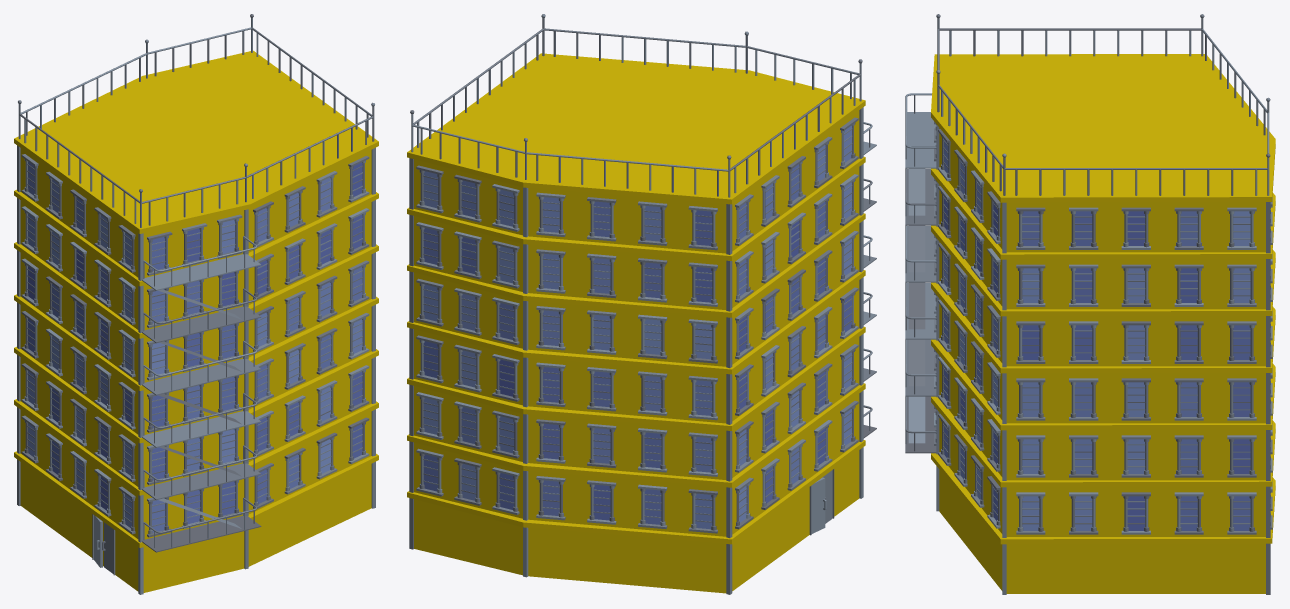
Rendered from Building Procedural.018.fbx.
3 views of the same model, side by side, from view 1: azimuth 30°, elevation 25°; view 2: azimuth 150°, elevation 25°; view 3: azimuth 270°, elevation 25° (orthographic). The views are drawn at different scales.
Parts seen in each view (by area): view 1: Building Procedural.018; view 2: Building Procedural.018; view 3: Building Procedural.018.
Boxes of the visible parts, x1,y1,x2,y2 form: Building Procedural.018: (14,14,378,594); Building Procedural.018: (407,14,876,594); Building Procedural.018: (905,14,1275,594).
Size of the model in its own units: 1559 by 2210 by 1685.
